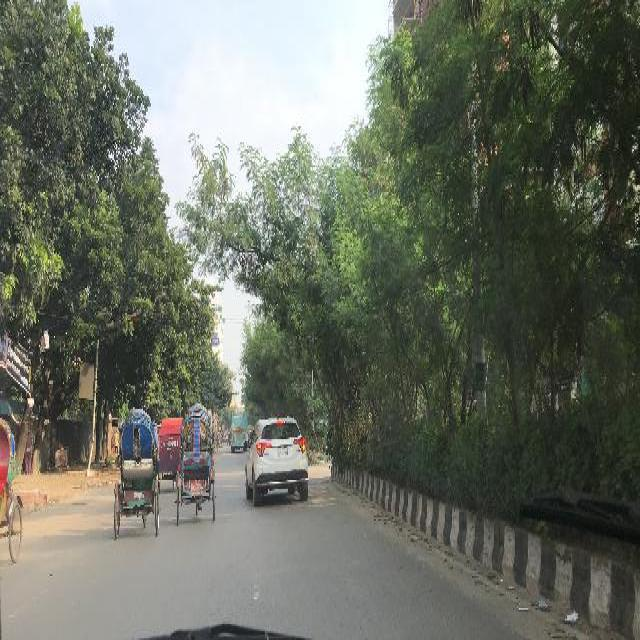13: (114, 408, 160, 538), (176, 403, 216, 525), (0, 412, 23, 572)
15: (246, 418, 308, 506)
Truck: (230, 412, 247, 452)
